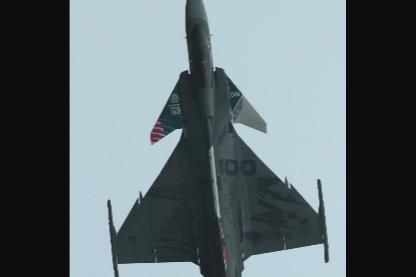JAS39: (107, 0, 330, 276)
